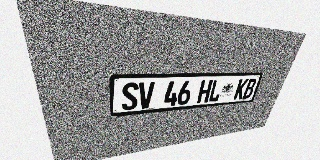4: (163, 81, 180, 107)
6: (176, 81, 193, 105)
B: (242, 78, 257, 99)
H: (197, 80, 213, 103)
K: (233, 79, 249, 100)
L: (208, 80, 224, 102)
S: (122, 82, 139, 111)
V: (138, 82, 155, 109)
